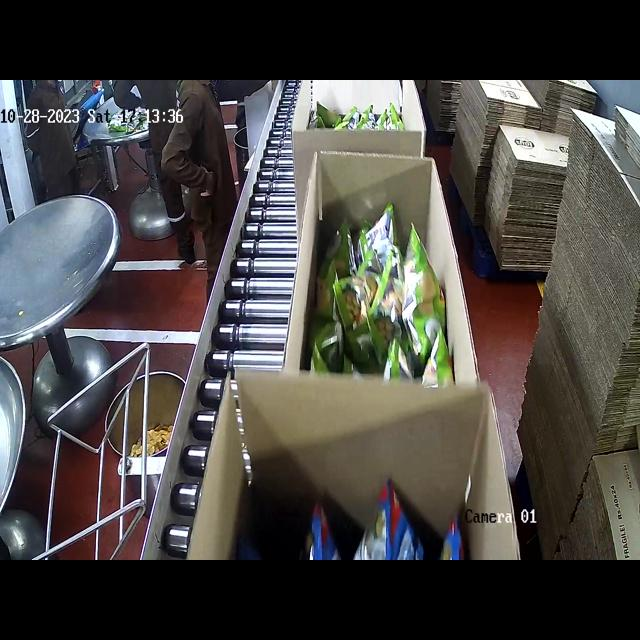paprika: (252, 481, 472, 560)
yogurt: (308, 201, 452, 386), (319, 100, 400, 131)
